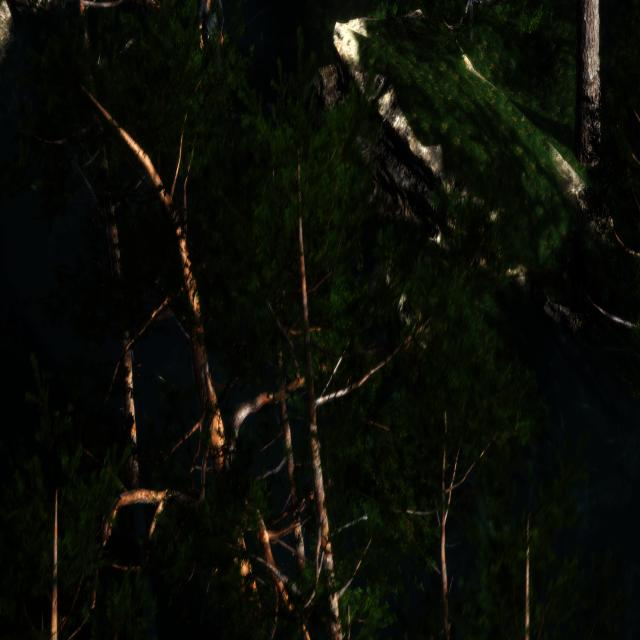Human: (197, 0, 228, 115)
